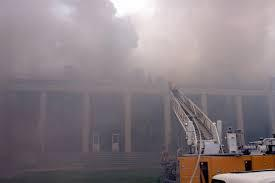smoke: (14, 0, 271, 97)
